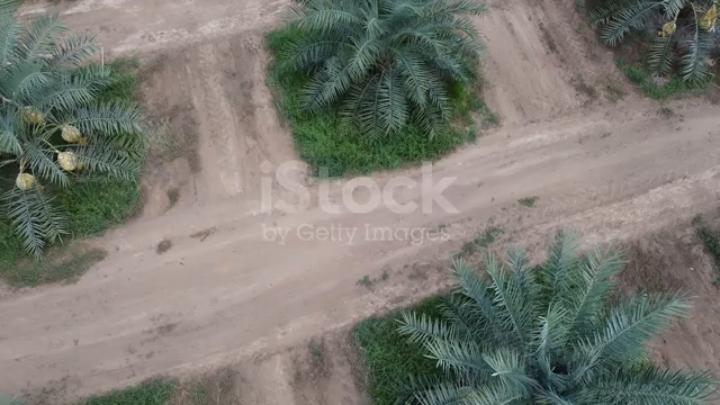Date-Palm-Crown: (486, 309, 614, 405), (327, 0, 441, 80), (0, 60, 54, 186), (626, 0, 720, 42)
